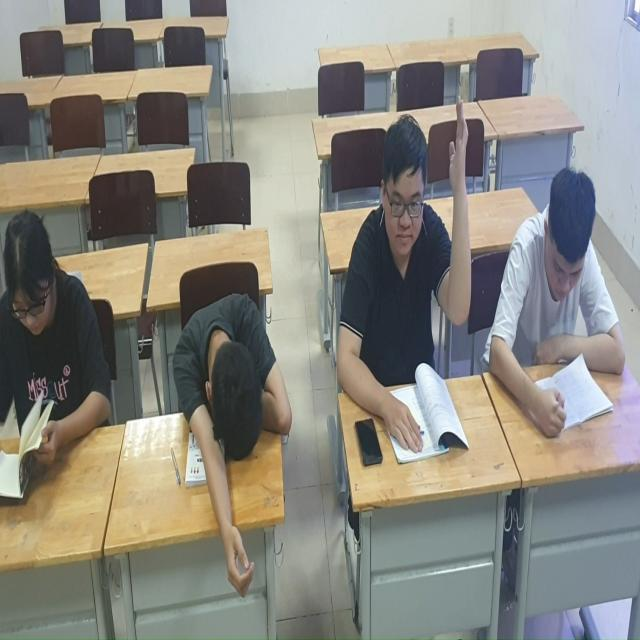sleep: (175, 290, 290, 585)
study: (340, 103, 473, 470), (490, 167, 623, 432), (0, 215, 112, 517)
